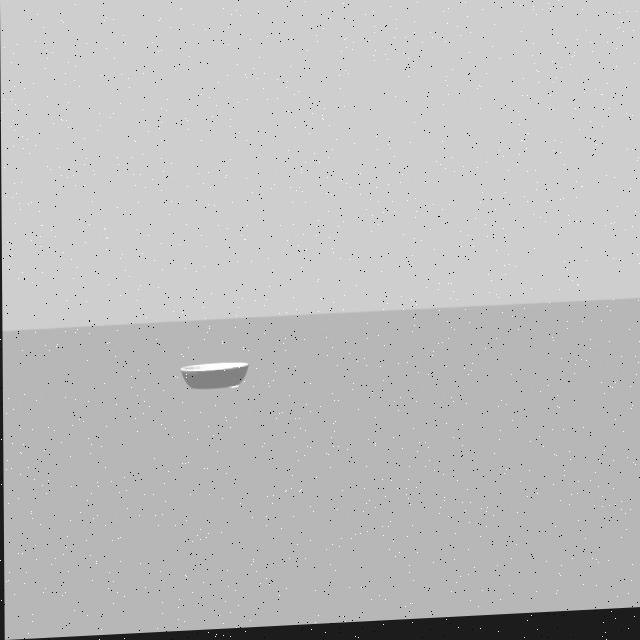bowl: (179, 348, 259, 409)
